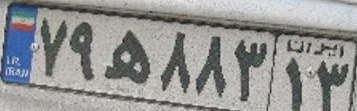character: (101, 21, 153, 90), (192, 27, 231, 101), (232, 30, 269, 106), (154, 25, 192, 96), (69, 14, 101, 84), (37, 13, 69, 81), (312, 56, 350, 111), (281, 55, 308, 111)
